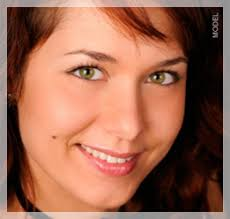mole: (48, 133, 59, 141)
